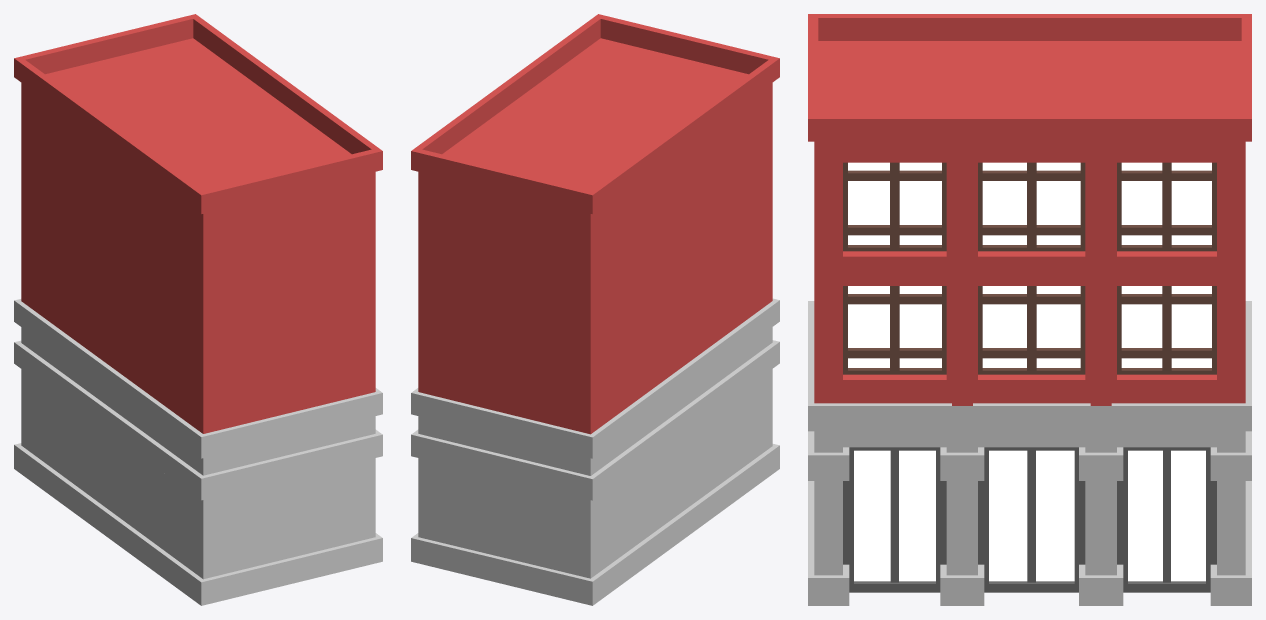
Rendered from House 1.4.fbx.
3 views of the same model, side by side, from view 1: azimuth 30°, elevation 25°; view 2: azimuth 150°, elevation 25°; view 3: azimuth 270°, elevation 25° (orthographic). The views are drawn at different scales.
Visible parts, largest first — view 1: House 1.005; view 2: House 1.005; view 3: House 1.005.
Part boxes in pixels (left/top/right/bottom): House 1.005: left=14, top=14, right=382, bottom=605; House 1.005: left=411, top=14, right=779, bottom=605; House 1.005: left=808, top=14, right=1251, bottom=605.
Size of the model in its own units: 785 by 1696 by 1401.
